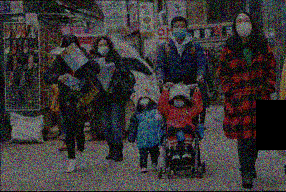with_mask: (235, 16, 253, 38), (172, 22, 187, 39), (97, 42, 110, 55), (138, 94, 151, 106), (173, 97, 185, 108)
